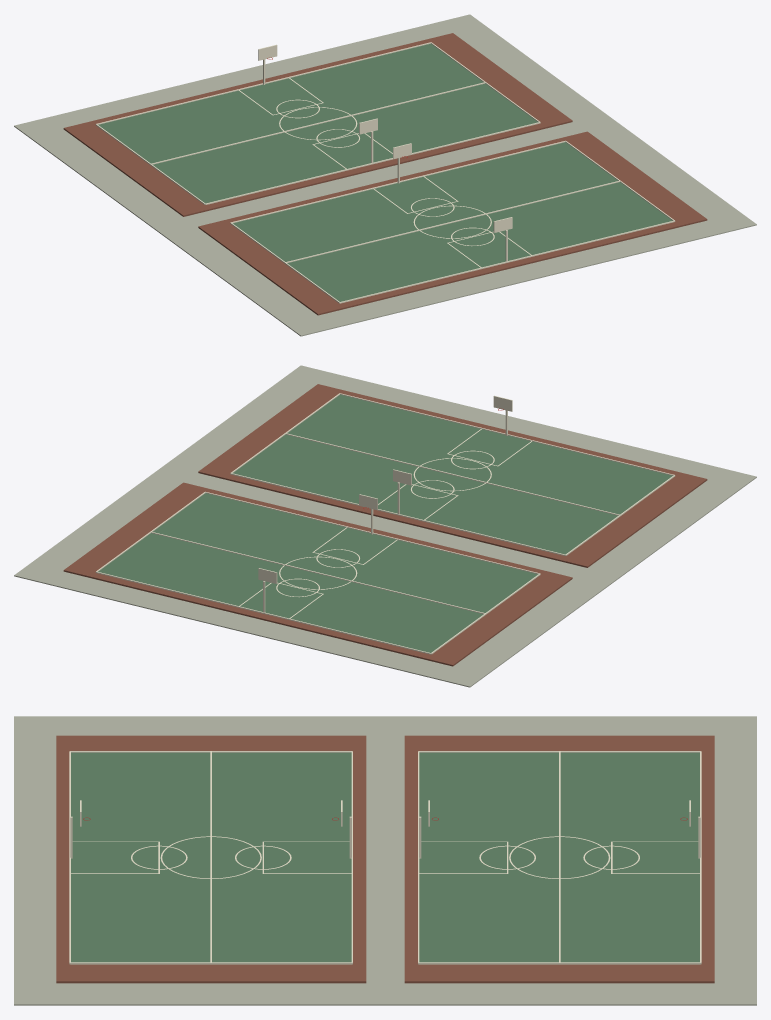
The model's file is basket_C_east_n.glb.
3 views of the same model, one above another, from view 1: azimuth 30°, elevation 25°; view 2: azimuth 150°, elevation 25°; view 3: azimuth 270°, elevation 25° (orthographic). The views are drawn at different scales.
Parts seen in each view (by area): view 1: PavedSurround, Court_2_CourtInfield, Court_1_CourtInfield, Court_2_CourtRed, Court_1_CourtRed, Court_2_CourtLines, Court_1_CourtLines; view 2: PavedSurround, Court_1_CourtInfield, Court_2_CourtInfield, Court_1_CourtRed, Court_2_CourtRed, Court_1_CourtLines, Court_2_CourtLines; view 3: PavedSurround, Court_1_CourtInfield, Court_2_CourtInfield, Court_1_CourtRed, Court_2_CourtRed, Court_1_CourtLines, Court_2_CourtLines.
Part boxes in pixels (x1,y1,x2,y2): PavedSurround: [14, 14, 756, 336]; Court_2_CourtInfield: [233, 142, 672, 301]; Court_1_CourtInfield: [98, 43, 537, 203]; Court_2_CourtRed: [198, 131, 707, 315]; Court_1_CourtRed: [63, 33, 572, 216]; Court_2_CourtLines: [230, 140, 675, 303]; Court_1_CourtLines: [95, 42, 540, 204]; PavedSurround: [14, 365, 756, 687]; Court_1_CourtInfield: [98, 493, 537, 652]; Court_2_CourtInfield: [233, 394, 672, 554]; Court_1_CourtRed: [63, 482, 572, 666]; Court_2_CourtRed: [198, 384, 707, 567]; Court_1_CourtLines: [95, 491, 540, 654]; Court_2_CourtLines: [230, 393, 675, 555]; PavedSurround: [14, 716, 756, 1005]; Court_1_CourtInfield: [419, 752, 699, 962]; Court_2_CourtInfield: [71, 752, 351, 962]; Court_1_CourtRed: [404, 735, 714, 983]; Court_2_CourtRed: [56, 735, 366, 983]; Court_1_CourtLines: [418, 751, 701, 964]; Court_2_CourtLines: [69, 751, 352, 964].
Size of the model in its own units: 44.4 by 3.97 by 48.38.
